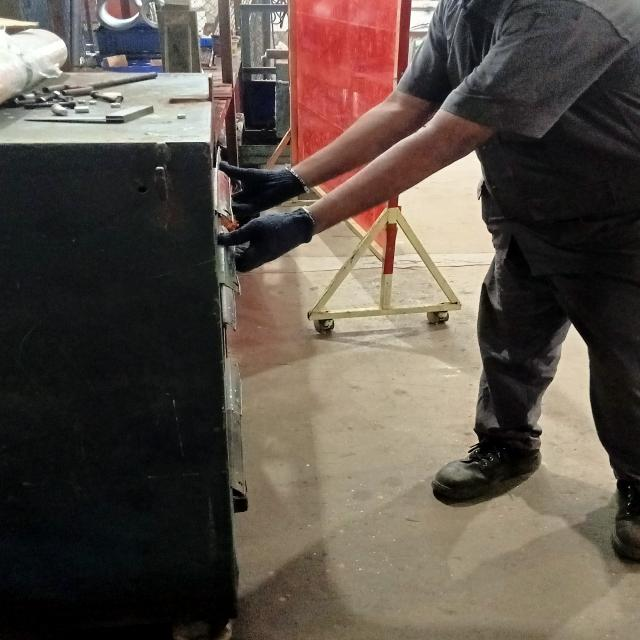Gloves-Detection: (214, 210, 315, 268), (224, 163, 306, 210)
